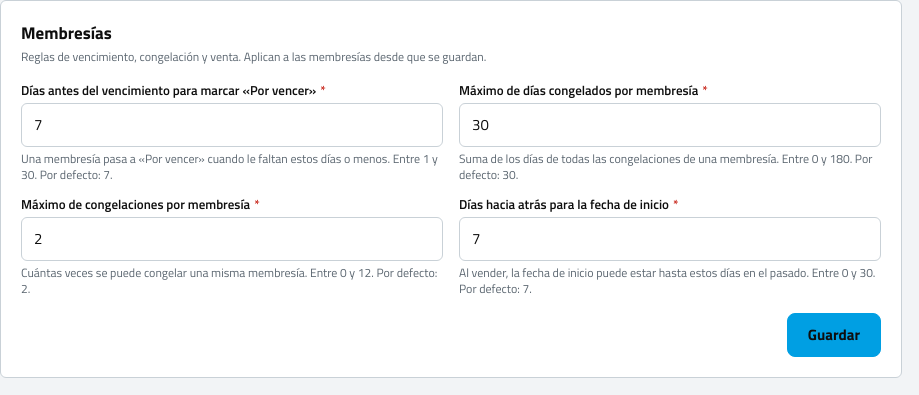
Scenario: MembershipsSettingsForm › guarda los cuatro valores como enteros con la versión leída
Replace the text in the number field labelled "Días antes del vencimiento para marcar «Por vencer»*" with "10" at [232, 125], box [21, 103, 443, 147]
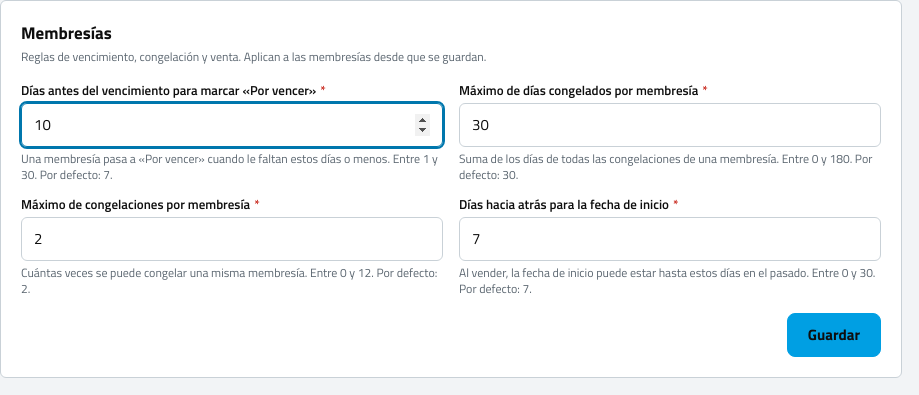
Click the button "Guardar" at [834, 335], box [787, 313, 881, 357]
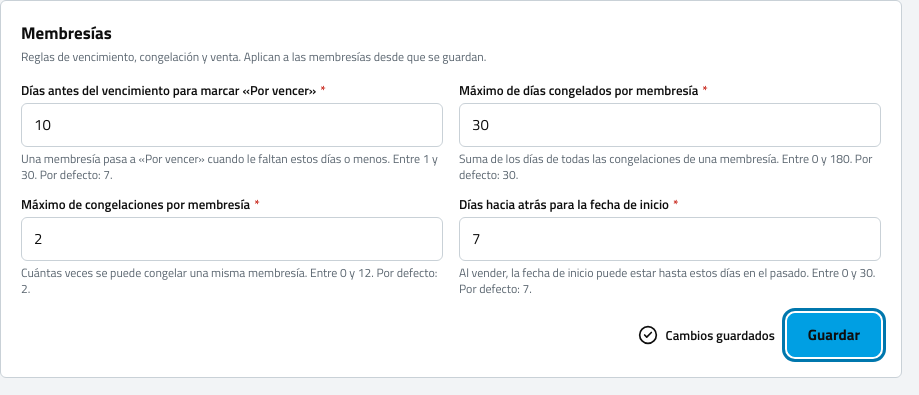
Result: the text "Cambios guardados" is shown at [638, 325, 775, 345]
